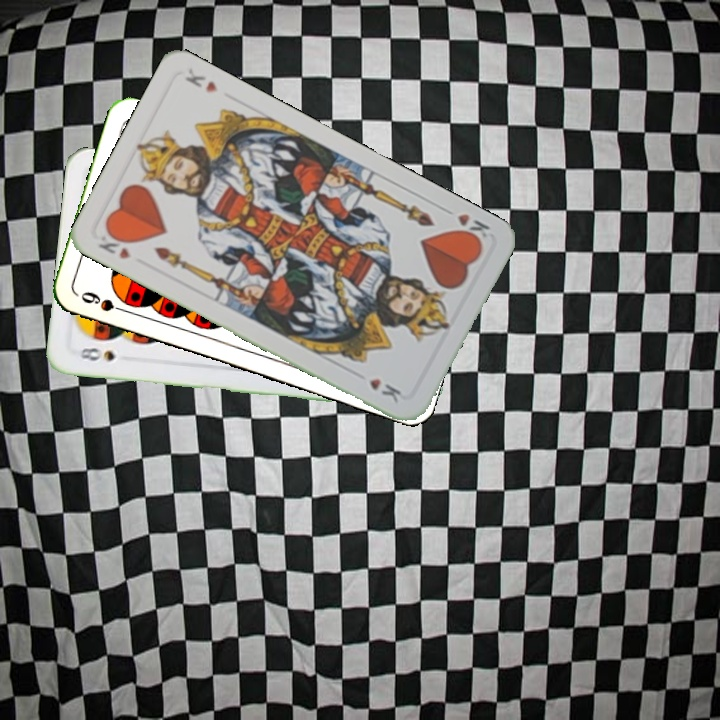HK: (438, 203, 493, 247), (94, 225, 134, 262)
S8: (75, 343, 118, 364)
S9: (77, 287, 133, 316)
